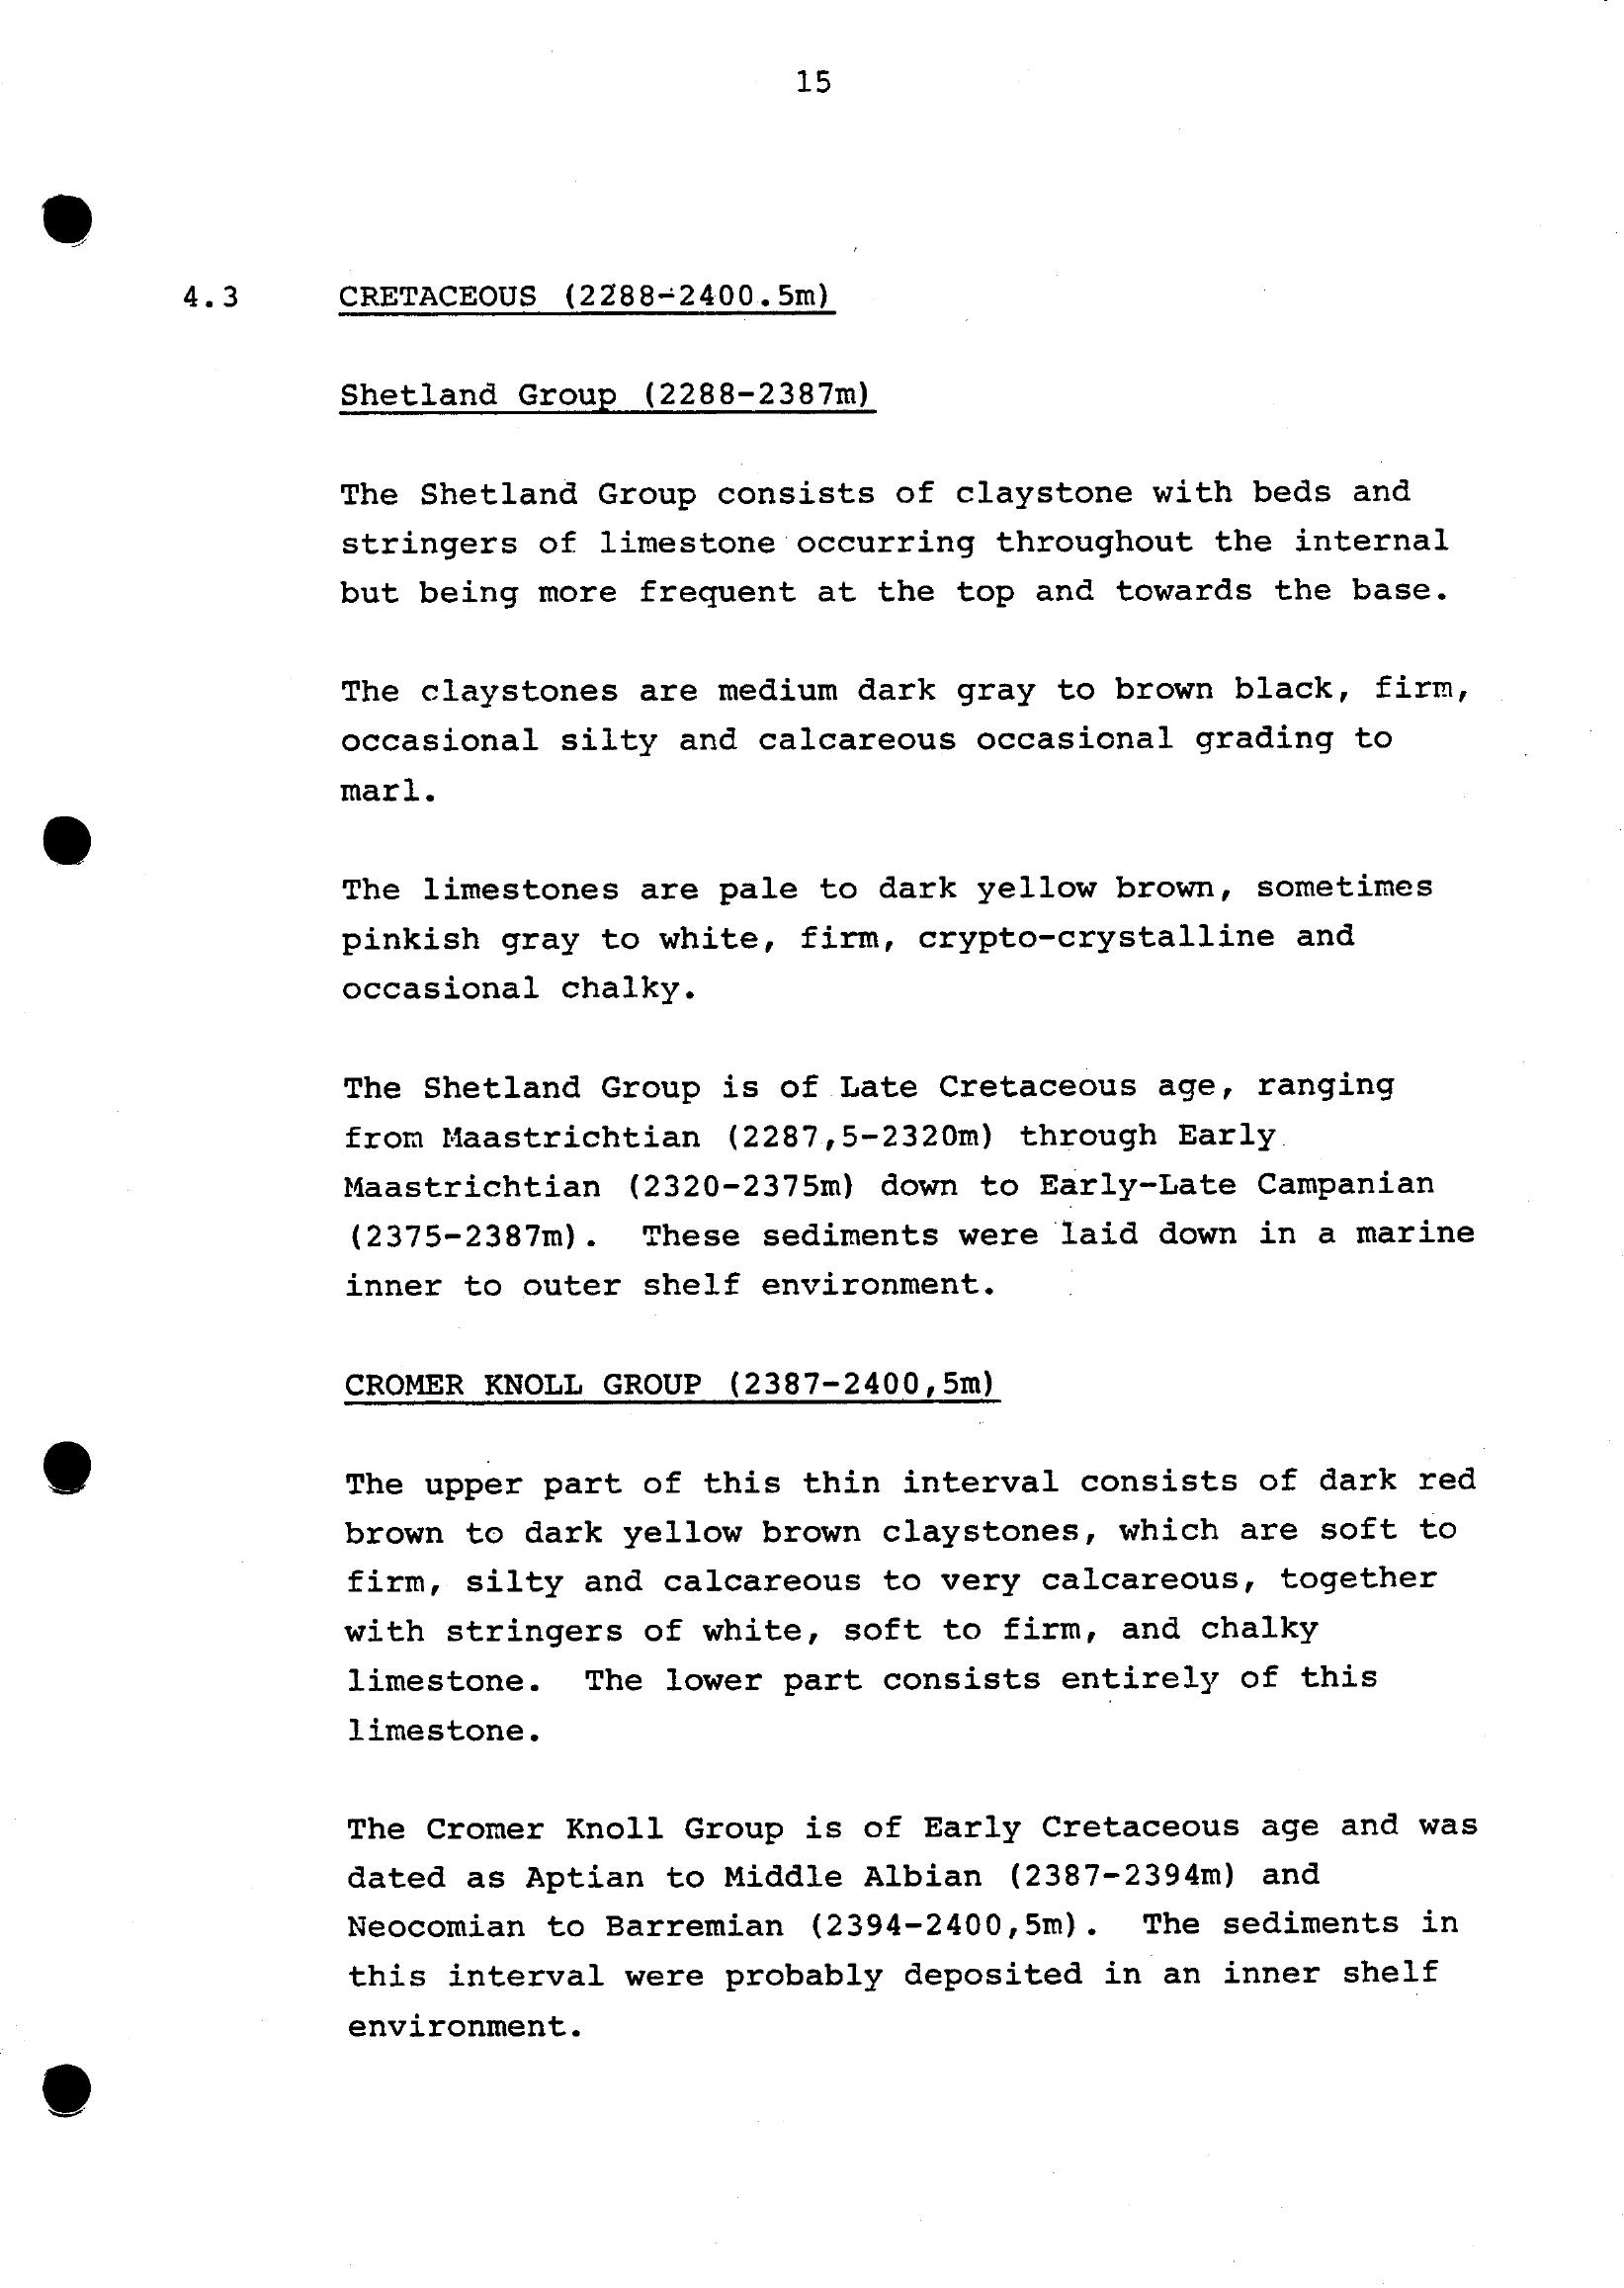text: (267, 239, 1531, 2137)
